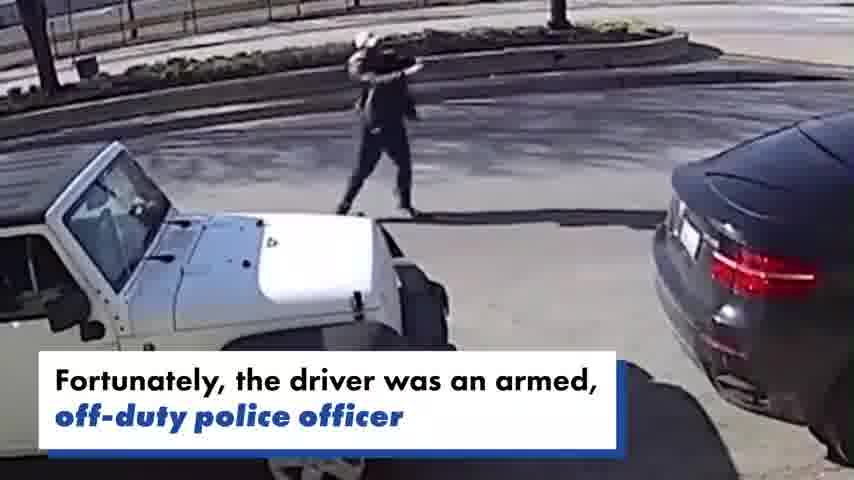person: (339, 25, 399, 203)
pistol: (416, 53, 448, 70)
pistol in hand: (378, 49, 457, 91)
